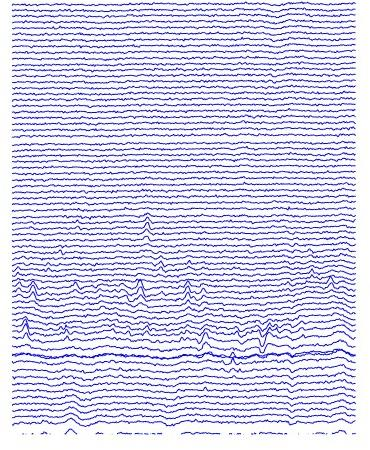defect: (180, 320, 211, 362), (251, 317, 274, 364), (179, 275, 209, 311), (20, 313, 36, 346), (140, 211, 153, 247), (133, 276, 148, 305), (27, 276, 38, 306), (59, 318, 71, 342), (324, 272, 333, 295)
